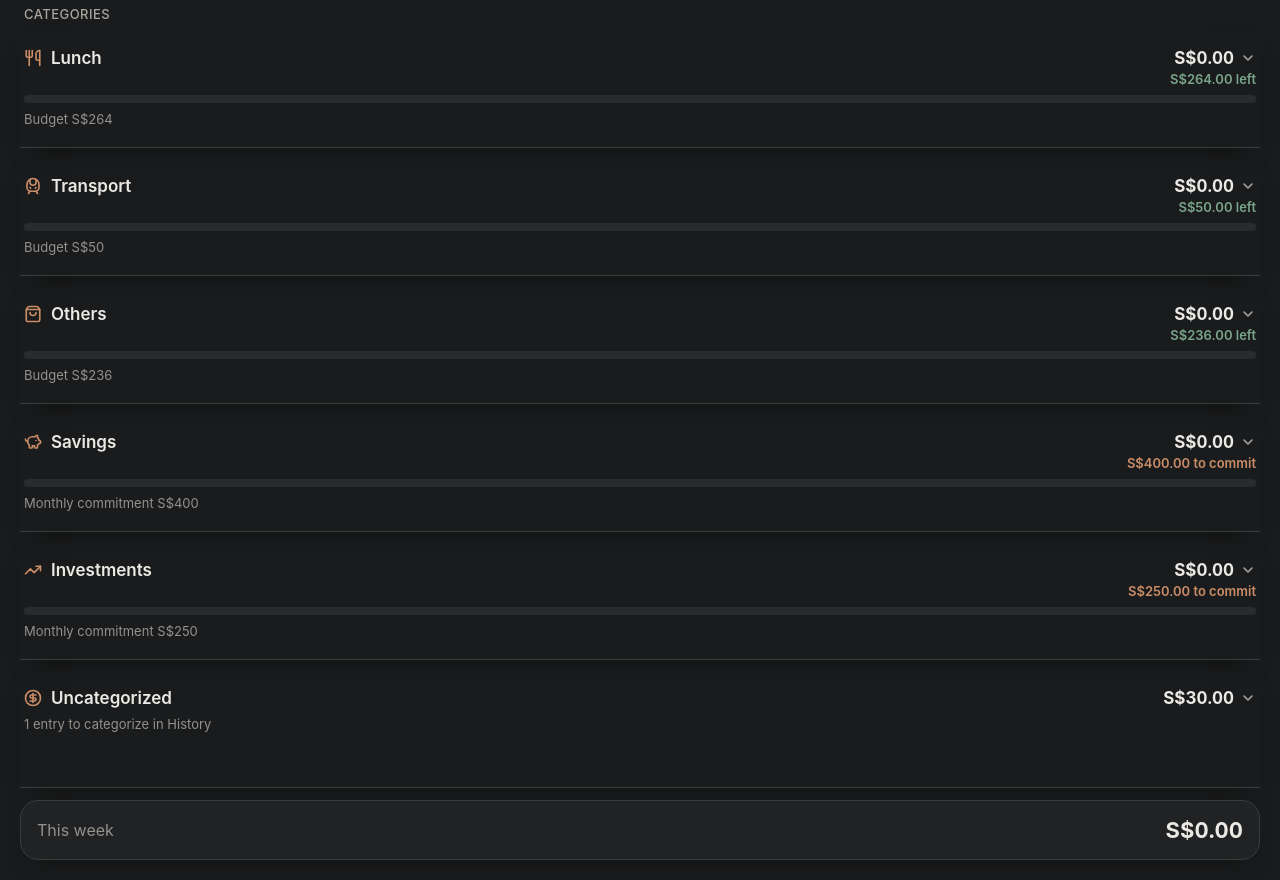
Scenario: Dashboard category expense history › shows uncategorized entries from earlier in the month, not just the past two weeks
(page scrolled)
Step 1. Click the button "Uncategorized S$30.00 1 entry to categorize in History" → click(111, 698), box [20,672,1260,786]
(page scrolled)
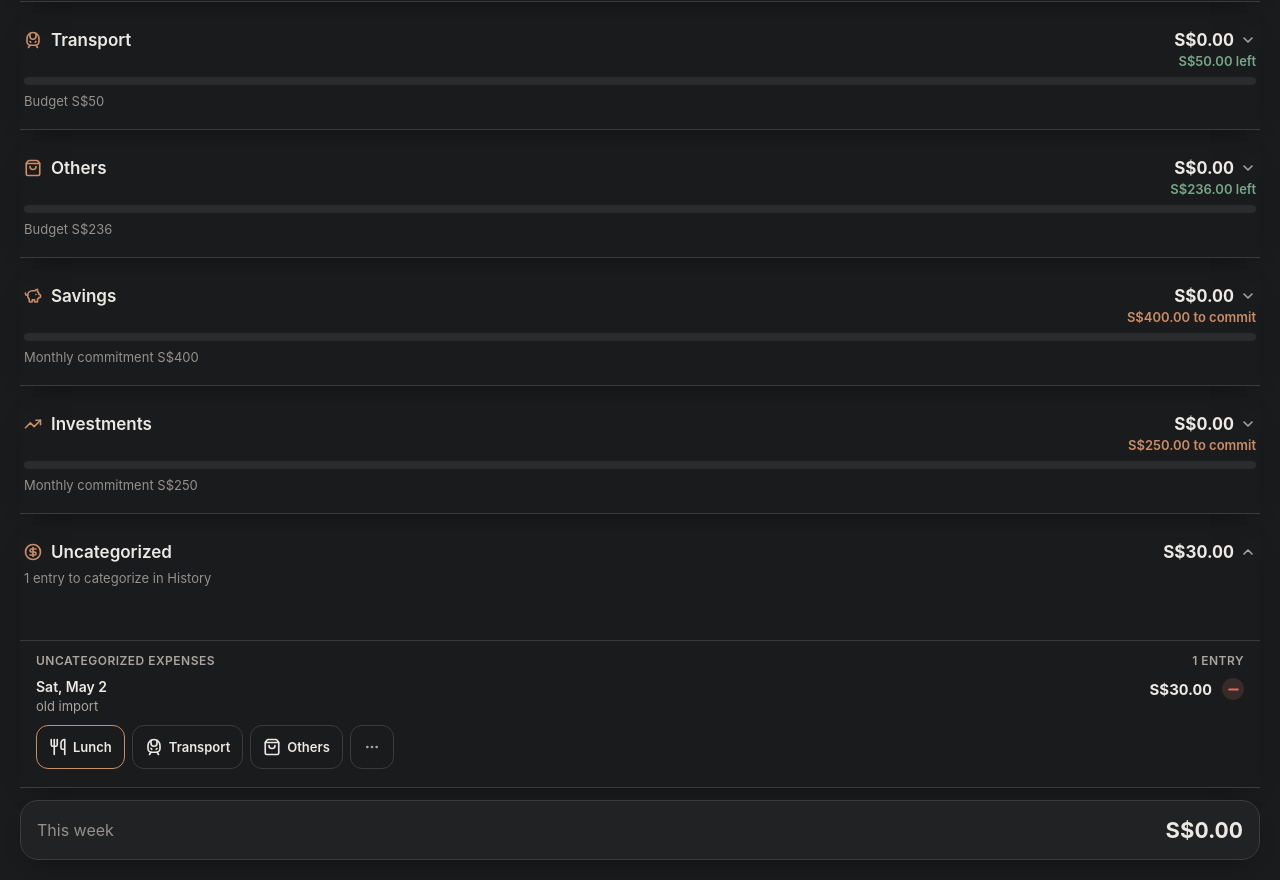
Expected: the element with id "category-expenses-uncategorized" shows "old import", [36,698,98,714]
Expected: the element with id "category-expenses-uncategorized" shows "S$30.00", [1150,680,1212,699]
